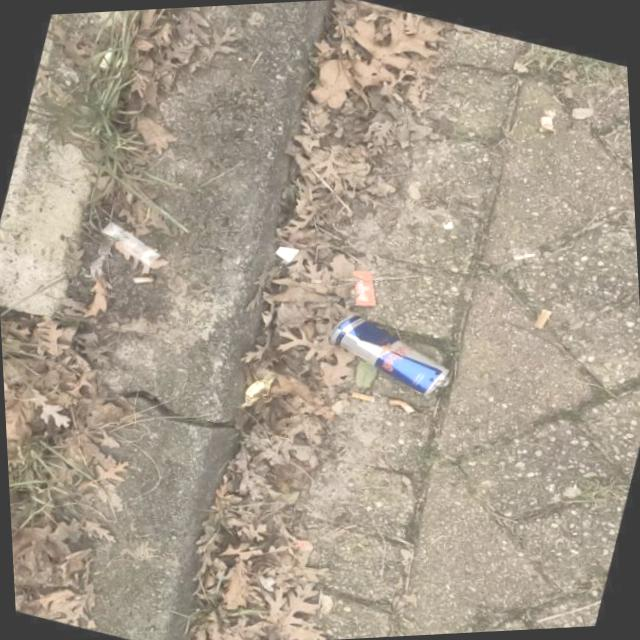Can-Metal: (326, 306, 452, 402), (100, 217, 158, 270)
Paper: (349, 268, 377, 308)
